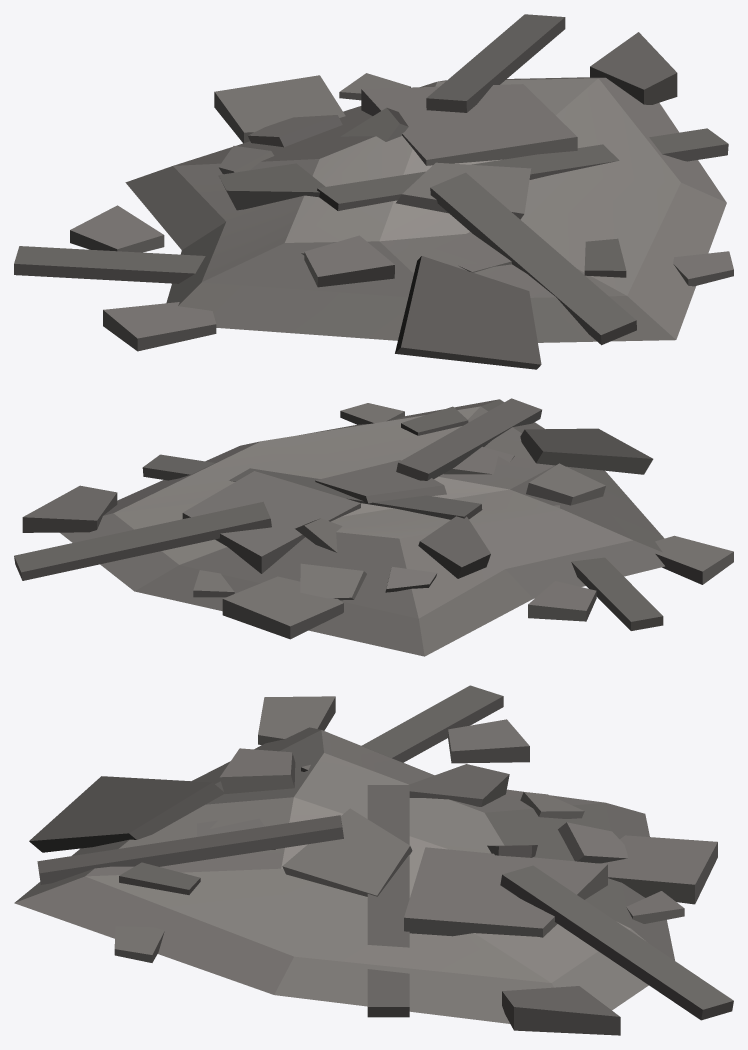
File: AI_Prop_Rubble_01.fbx
3 renders of one model, top to bottom at view 1: azimuth 30°, elevation 25°; view 2: azimuth 150°, elevation 25°; view 3: azimuth 270°, elevation 25°, orthographic. The views are drawn at different scales.
Visible parts, largest first — view 1: AI_Prop_Rubble_01; view 2: AI_Prop_Rubble_01; view 3: AI_Prop_Rubble_01.
Part boxes in pixels (<box>): AI_Prop_Rubble_01: <box>14,14,733,369</box>; AI_Prop_Rubble_01: <box>14,398,733,656</box>; AI_Prop_Rubble_01: <box>14,685,733,1035</box>.
Size of the model in its own units: 6.37 by 0.6711 by 5.76.
